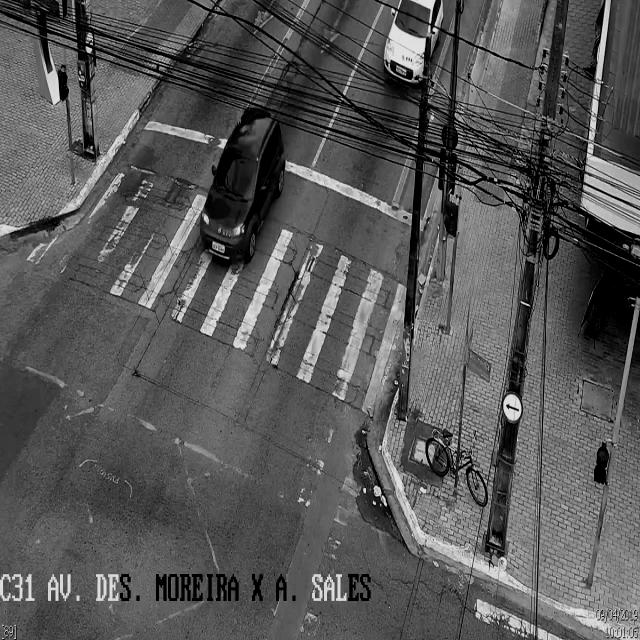Car: (200, 108, 284, 258), (383, 3, 443, 86)
